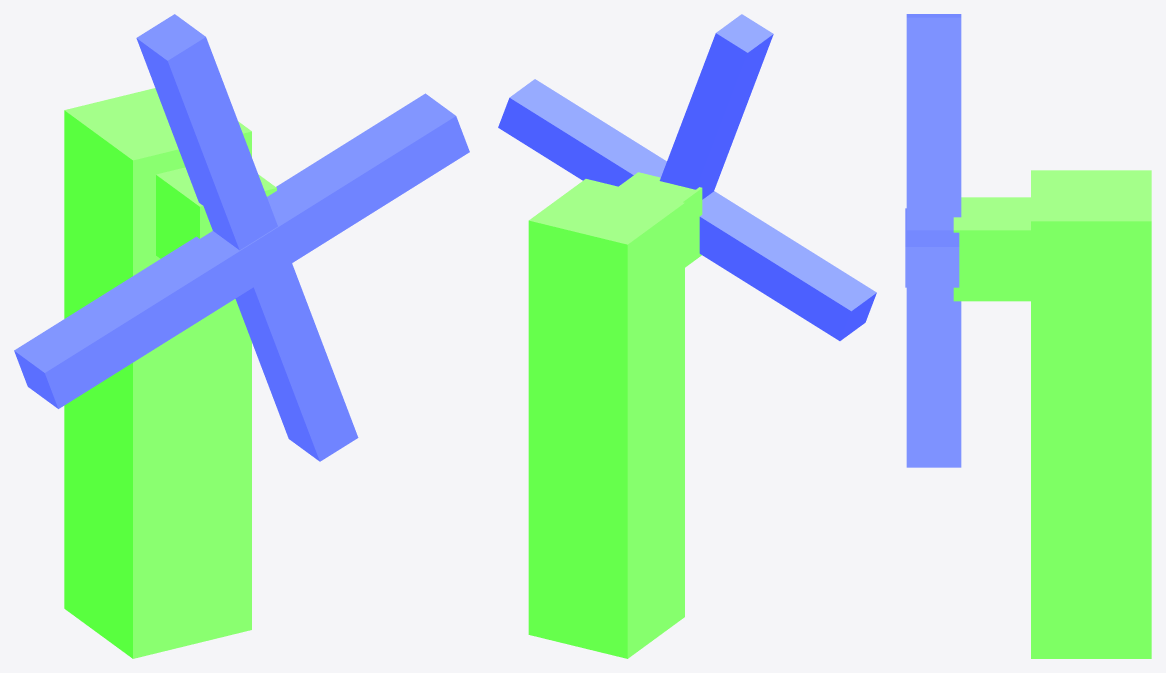
File: FUSYA.FBX
3 renders of one model, left to right at view 1: azimuth 30°, elevation 25°; view 2: azimuth 150°, elevation 25°; view 3: azimuth 270°, elevation 25°, orthographic. The views are drawn at different scales.
Visible parts, largest first — view 1: Box001, Box004, Box003, Box002; view 2: Box001, Box004, Box003, Box002; view 3: Box001, Box003, Box002, Box004.
Boxes of the visible parts, box(x1,y1,x2,y2) form: Box001: box(64, 88, 251, 658); Box004: box(14, 93, 469, 408); Box003: box(136, 14, 358, 461); Box002: box(156, 167, 276, 258); Box001: box(528, 179, 684, 658); Box004: box(498, 79, 876, 340); Box003: box(659, 14, 773, 199); Box002: box(619, 172, 702, 267); Box001: box(1031, 170, 1151, 658); Box003: box(906, 14, 961, 467); Box002: box(953, 197, 1030, 301); Box004: box(905, 208, 959, 287).
Bounding box in the file's own units: 30.92 × 46.79 × 17.66.
